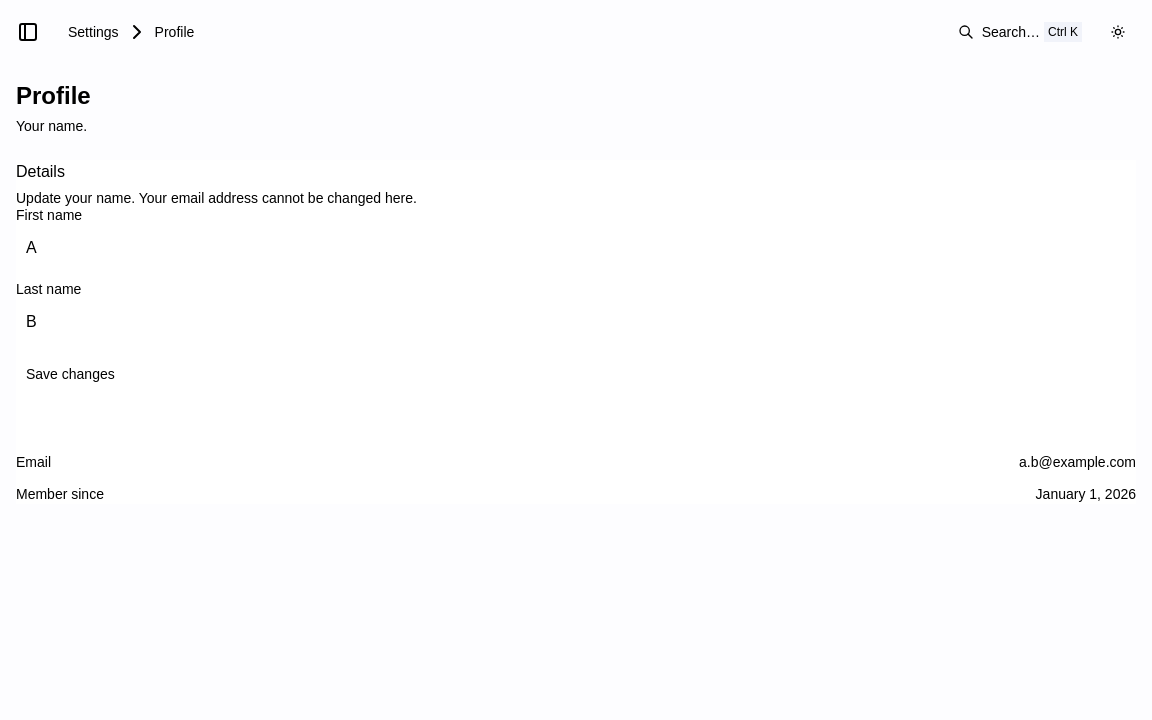
it: profile page › refuses to submit an empty name without touching the network
Step 1. Clear the field labelled "First name" → [576, 248], box x1=16 y1=230 x2=1136 y2=266
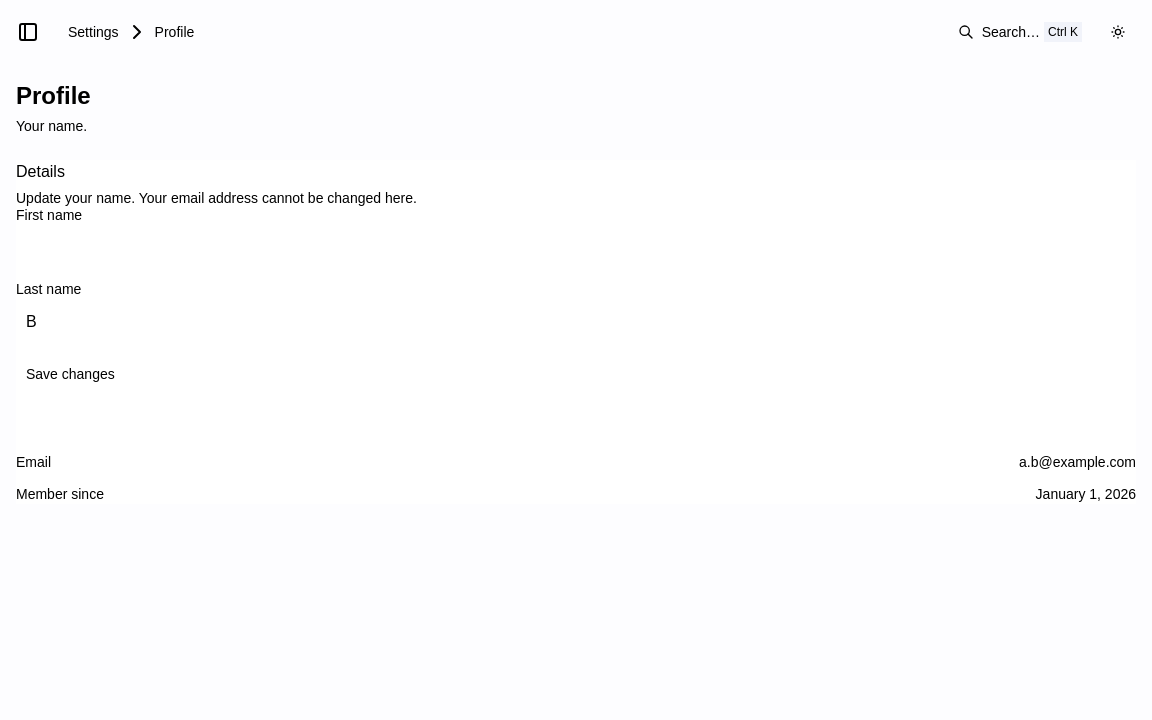
Step 2. Click the button "Save changes" → [70, 374], box x1=16 y1=356 x2=125 y2=392
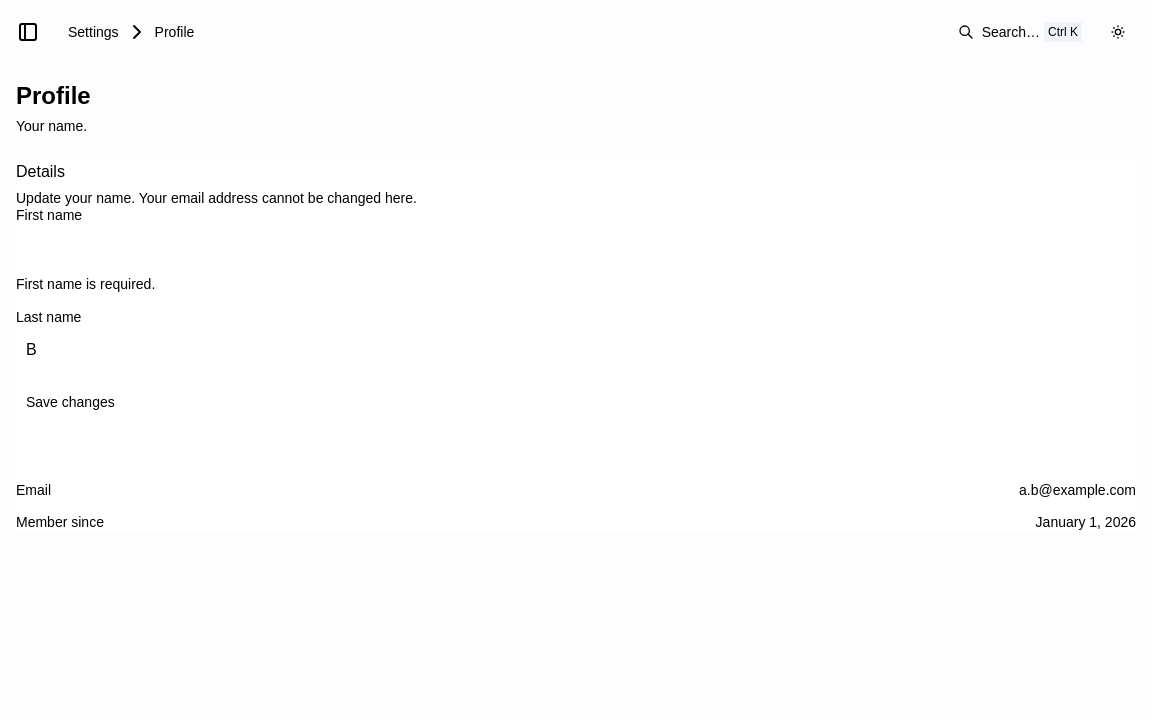
Expected: the text "First name is required." is shown, x1=16 y1=276 x2=155 y2=292
